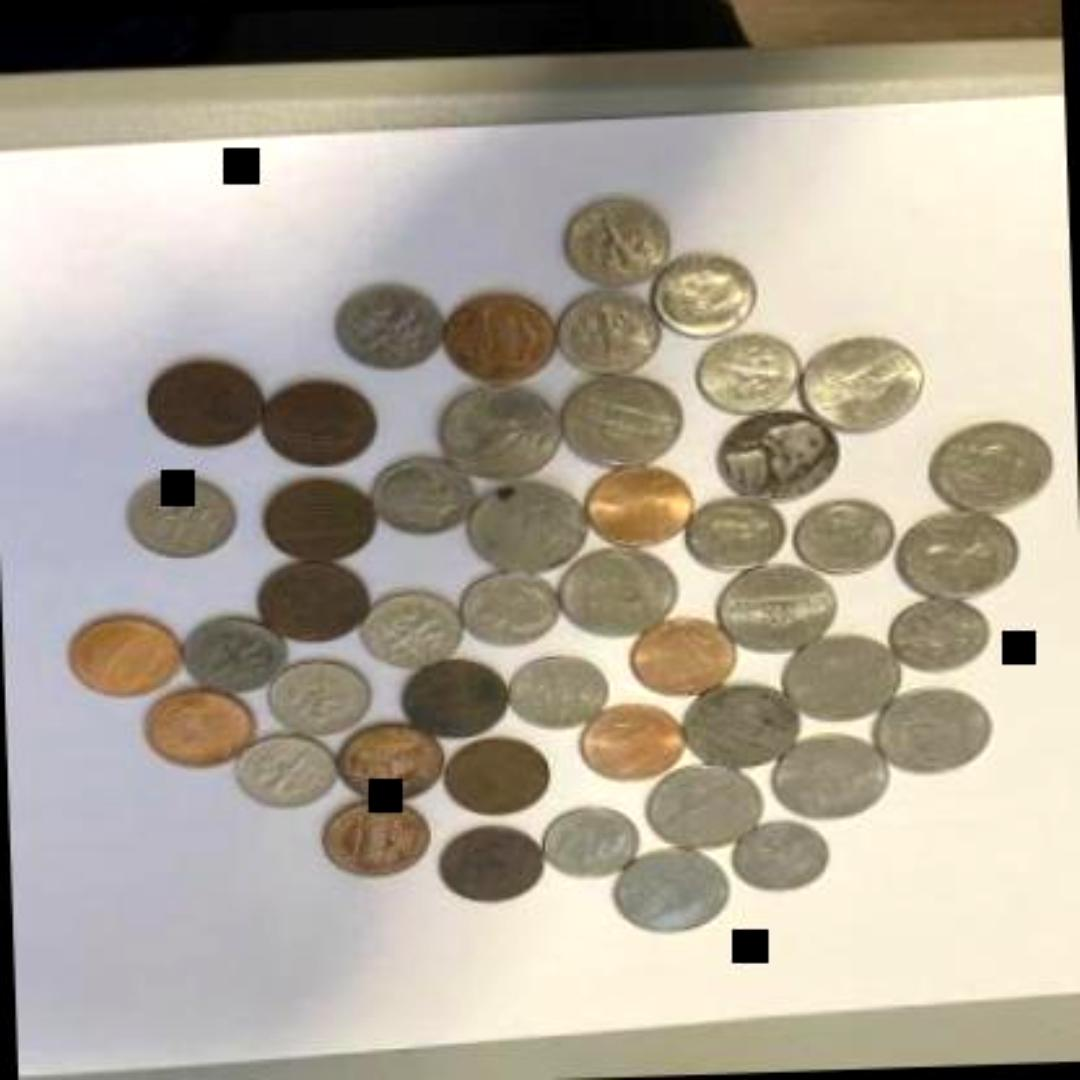Dime: (553, 194, 669, 292), (117, 472, 233, 566), (328, 282, 446, 370), (548, 286, 662, 374), (264, 658, 370, 744), (505, 648, 611, 734), (456, 568, 562, 654), (788, 492, 894, 578), (651, 252, 757, 338), (695, 331, 801, 416), (178, 614, 292, 691), (371, 454, 472, 540), (536, 802, 642, 882), (888, 591, 990, 671), (682, 494, 783, 574), (360, 590, 466, 666), (232, 737, 334, 807)
Nickel: (551, 364, 688, 474), (920, 412, 1056, 514), (795, 330, 927, 433), (460, 472, 588, 576), (432, 380, 560, 482), (889, 501, 1021, 599), (714, 404, 842, 502), (711, 559, 838, 657), (603, 843, 735, 936), (551, 546, 678, 639), (682, 673, 800, 771), (780, 632, 904, 724), (874, 680, 996, 772), (769, 734, 893, 822), (642, 763, 762, 851), (725, 815, 836, 900)
Penny: (144, 352, 264, 450), (257, 372, 379, 466), (439, 288, 558, 382), (56, 610, 180, 698), (260, 470, 378, 560), (136, 688, 256, 774), (579, 460, 693, 550), (394, 654, 512, 740), (255, 560, 369, 644), (434, 820, 544, 906), (313, 801, 427, 881), (334, 720, 440, 805), (442, 732, 548, 816), (577, 704, 683, 784), (632, 614, 738, 691)
